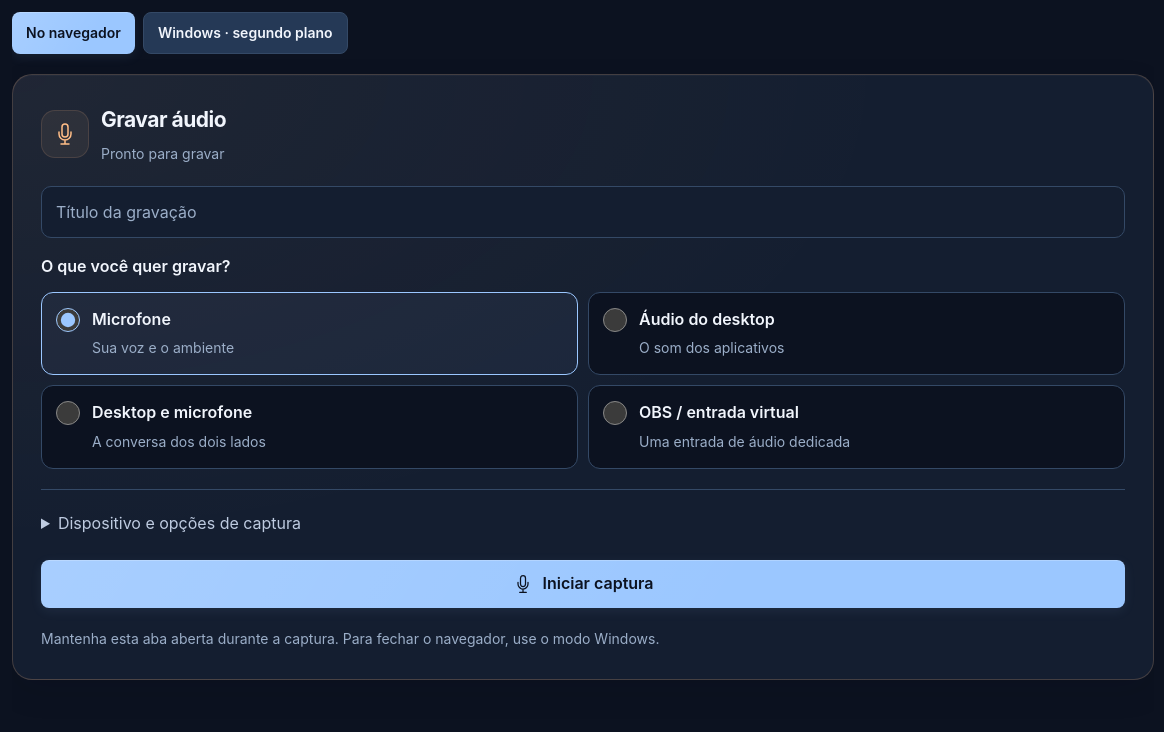
preserves new audio locally while an earlier upload is still pending
The width and height of the screenshot is (1164, 732).
Step 1. Click the button "Iniciar captura" → (583, 584), box x1=41 y1=560 x2=1125 y2=608
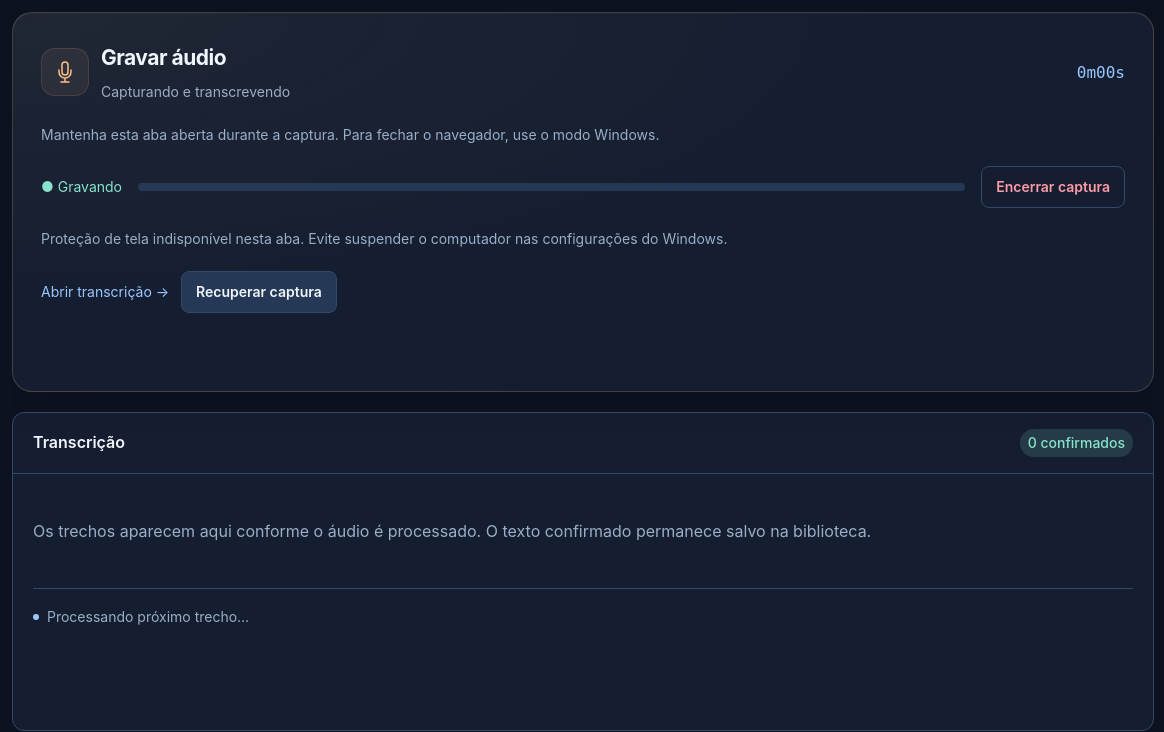
Expected: the button "Encerrar captura" is shown, x1=981 y1=166 x2=1125 y2=208
